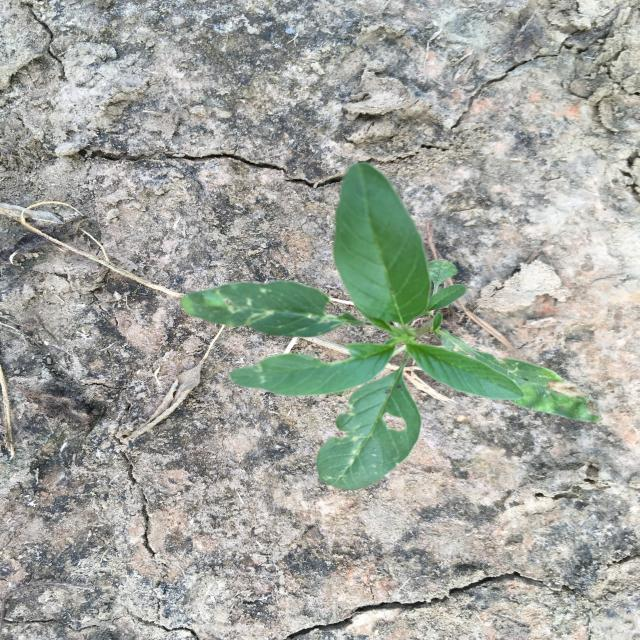Waterhemp: (181, 163, 602, 491)
